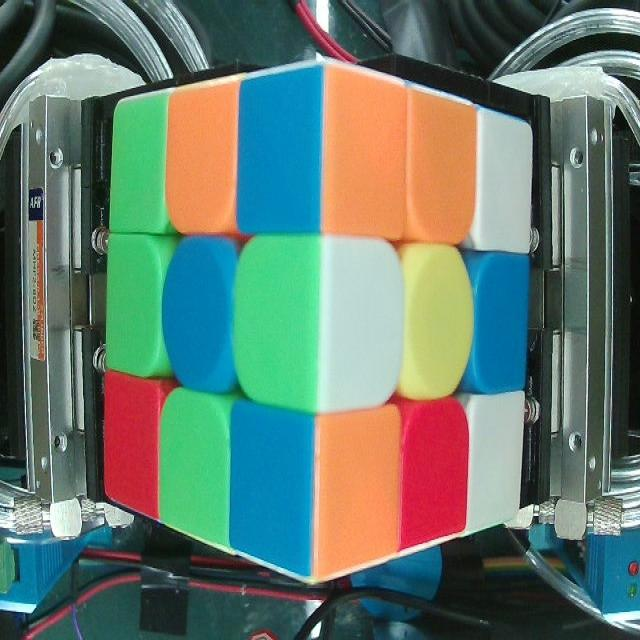b: (246, 80, 314, 227), (237, 416, 308, 556), (174, 245, 225, 375), (477, 256, 524, 383)
g: (237, 251, 315, 393), (168, 398, 227, 530), (111, 245, 158, 371), (118, 104, 158, 223)
o: (330, 88, 398, 229), (411, 96, 468, 232), (175, 99, 233, 217)
r: (404, 417, 461, 532), (107, 384, 154, 500)
w: (326, 244, 398, 400), (474, 400, 521, 523), (482, 116, 520, 236)
y: (325, 417, 395, 560), (411, 255, 464, 382)
